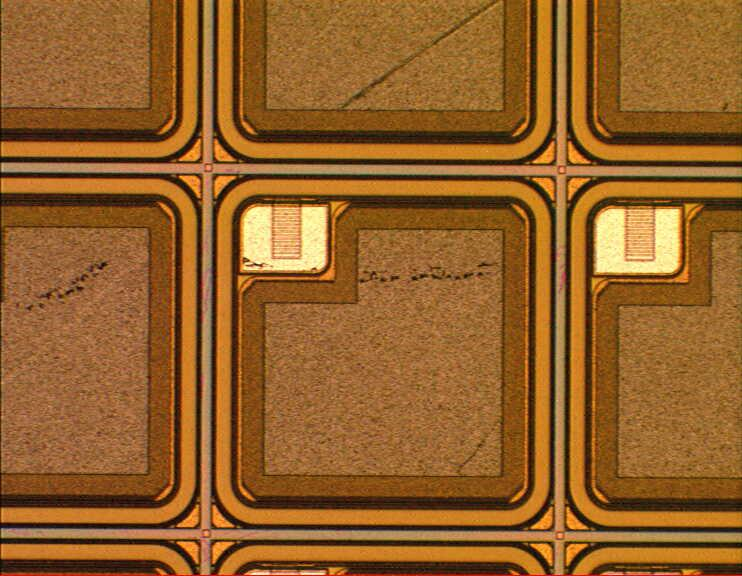SCRATCH: (1, 1, 539, 483)
